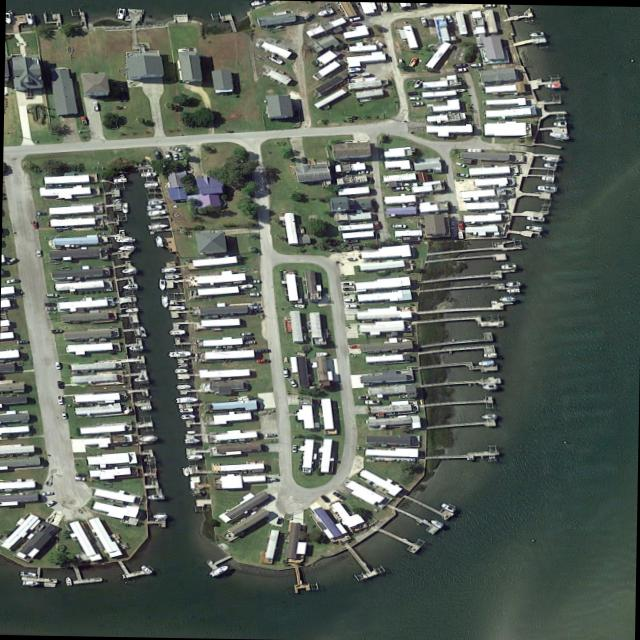ship: (207, 562, 231, 576), (438, 500, 456, 511), (547, 130, 569, 139), (315, 6, 334, 16), (428, 516, 445, 527), (267, 53, 284, 64), (174, 395, 198, 402), (168, 349, 191, 356), (534, 183, 556, 190), (139, 433, 157, 441), (523, 223, 543, 230), (146, 208, 165, 215), (139, 563, 152, 573), (115, 6, 125, 19), (147, 222, 168, 228), (411, 77, 422, 88), (540, 154, 560, 160), (477, 359, 494, 366), (499, 262, 516, 269), (159, 294, 168, 307), (525, 214, 544, 220), (480, 382, 496, 389), (142, 180, 158, 187), (121, 266, 137, 273), (153, 234, 163, 245), (498, 295, 516, 301), (138, 324, 147, 336), (120, 282, 138, 288), (146, 198, 164, 204), (22, 579, 40, 585), (528, 30, 546, 36), (24, 11, 33, 23), (542, 161, 557, 168), (183, 437, 200, 443), (178, 412, 195, 418), (145, 203, 162, 209), (19, 570, 36, 576), (185, 453, 202, 459), (180, 466, 190, 476), (133, 375, 147, 382), (158, 277, 166, 289), (504, 280, 520, 286), (127, 344, 143, 350), (118, 244, 134, 250), (237, 282, 253, 288), (111, 175, 127, 181), (168, 327, 184, 333), (363, 398, 379, 404), (480, 412, 496, 418), (346, 65, 362, 71), (164, 272, 179, 278), (123, 306, 138, 312), (466, 146, 481, 152), (146, 493, 163, 498), (167, 304, 184, 309), (505, 286, 519, 292), (121, 200, 128, 212), (160, 266, 176, 271), (175, 383, 191, 388), (113, 237, 133, 241), (141, 170, 156, 175), (152, 512, 167, 517), (189, 489, 204, 494), (293, 302, 305, 308), (540, 174, 552, 180), (546, 82, 560, 87), (552, 121, 566, 126), (138, 404, 152, 409), (64, 575, 71, 585), (315, 350, 328, 355), (173, 367, 189, 371), (483, 351, 495, 356), (456, 229, 463, 237), (402, 184, 410, 190), (176, 362, 187, 366), (455, 87, 465, 91)
small-vehicle: (4, 255, 17, 264), (287, 376, 297, 386), (408, 55, 417, 66), (333, 490, 344, 499), (347, 14, 361, 21), (167, 144, 181, 151), (373, 38, 385, 46), (152, 149, 161, 159), (45, 498, 56, 506), (453, 160, 465, 167), (455, 171, 469, 177), (443, 13, 452, 22), (419, 16, 427, 26), (373, 219, 381, 229), (452, 61, 465, 67), (5, 277, 18, 283), (254, 347, 269, 352), (41, 489, 53, 495), (53, 359, 61, 368), (164, 149, 172, 158), (320, 494, 329, 502), (56, 394, 63, 404), (92, 100, 99, 110), (281, 366, 288, 376), (453, 66, 466, 71), (468, 61, 481, 66), (390, 223, 406, 227), (80, 115, 88, 123), (457, 219, 464, 228), (411, 100, 423, 105), (391, 185, 403, 190), (73, 475, 85, 480), (248, 300, 260, 305), (61, 410, 68, 418), (406, 89, 417, 94), (172, 151, 178, 160), (35, 247, 41, 256), (31, 219, 37, 228), (291, 443, 297, 452), (276, 515, 282, 524), (247, 278, 260, 282), (341, 286, 354, 290), (263, 432, 276, 436), (357, 169, 369, 173), (350, 21, 362, 25), (448, 220, 454, 228), (57, 379, 63, 387), (15, 338, 27, 342), (44, 305, 56, 309), (356, 394, 368, 398), (247, 291, 259, 295), (240, 331, 252, 335), (408, 95, 419, 99), (51, 327, 62, 331), (46, 292, 57, 296), (248, 304, 259, 308), (243, 335, 254, 339), (244, 339, 255, 343), (266, 476, 277, 480), (349, 343, 359, 347), (340, 281, 353, 284), (255, 358, 268, 361), (344, 303, 356, 306), (74, 472, 86, 475), (44, 301, 55, 304), (36, 211, 47, 214), (344, 298, 353, 300)
